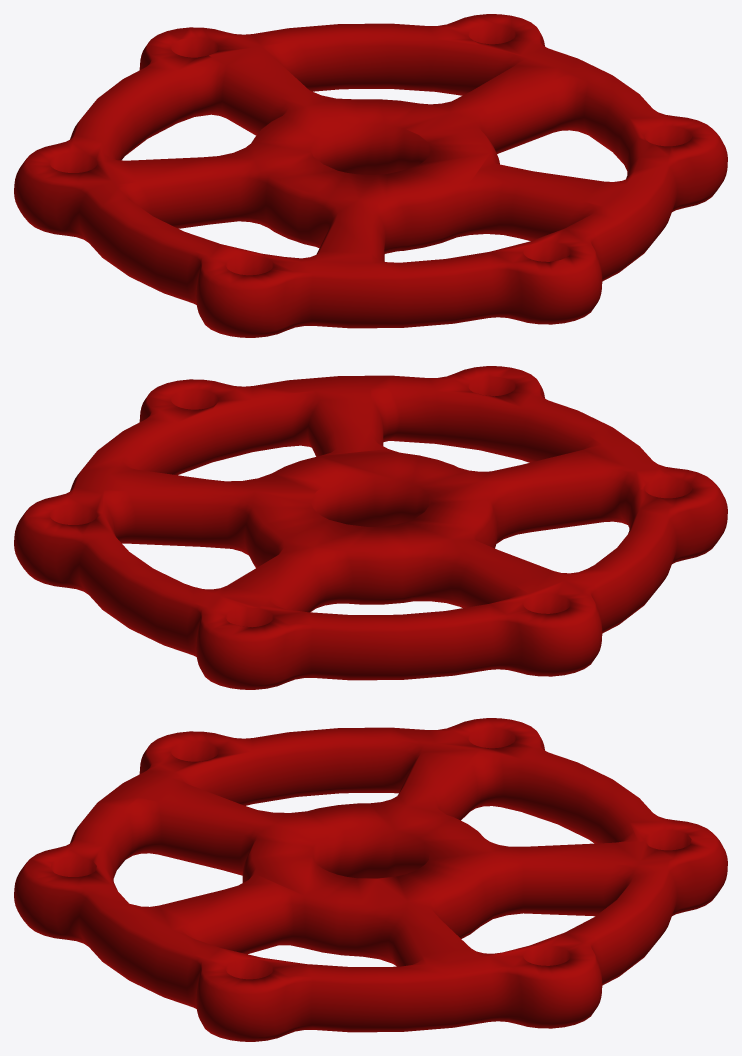
The model's file is cad7.glb.
The picture shows the model from 3 angles, top to bottom: view 1: azimuth 30°, elevation 25°; view 2: azimuth 150°, elevation 25°; view 3: azimuth 270°, elevation 25°; orthographic projection.
Parts seen in each view (by area): view 1: Circle; view 2: Circle; view 3: Circle.
Part boxes in pixels (box(x1,y1,x2,y2)): Circle: box(14, 14, 727, 337); Circle: box(14, 366, 727, 689); Circle: box(14, 718, 727, 1041).
Size of the model in its own units: 1.11 by 0.0971 by 1.19.
